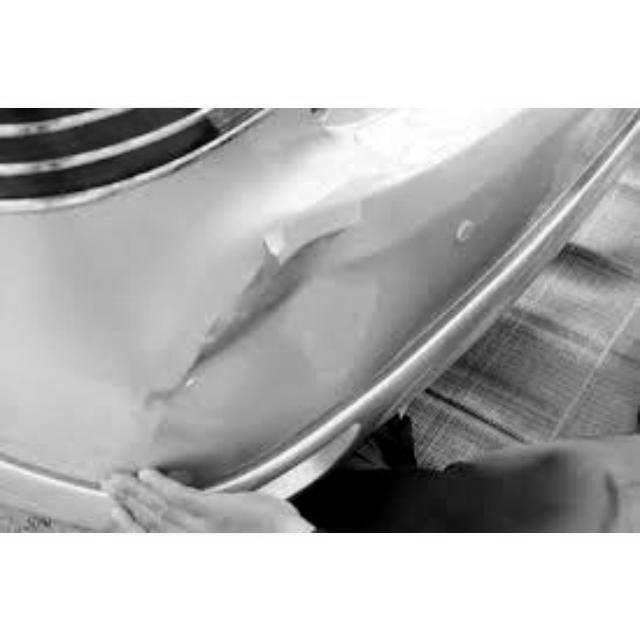rear-bumper-dent: (1, 108, 526, 531)
